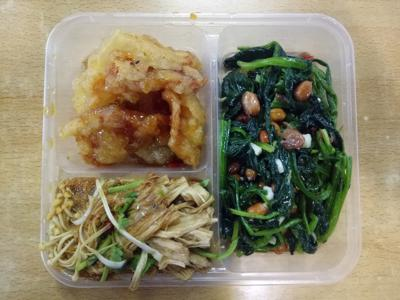bc: (220, 38, 351, 260)
gbr: (65, 36, 211, 167)
